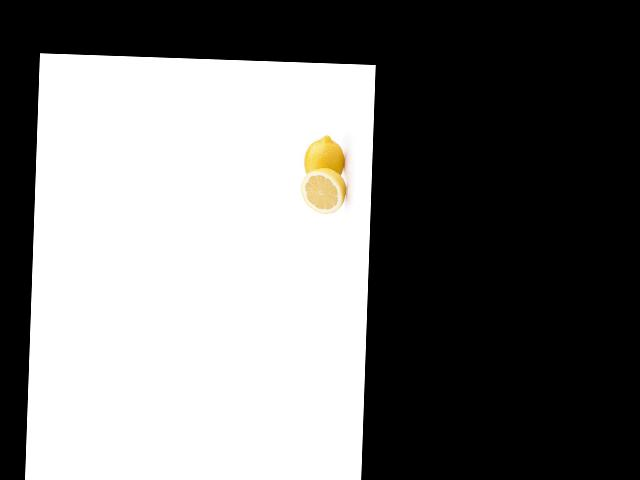lemon: (300, 134, 350, 178)
